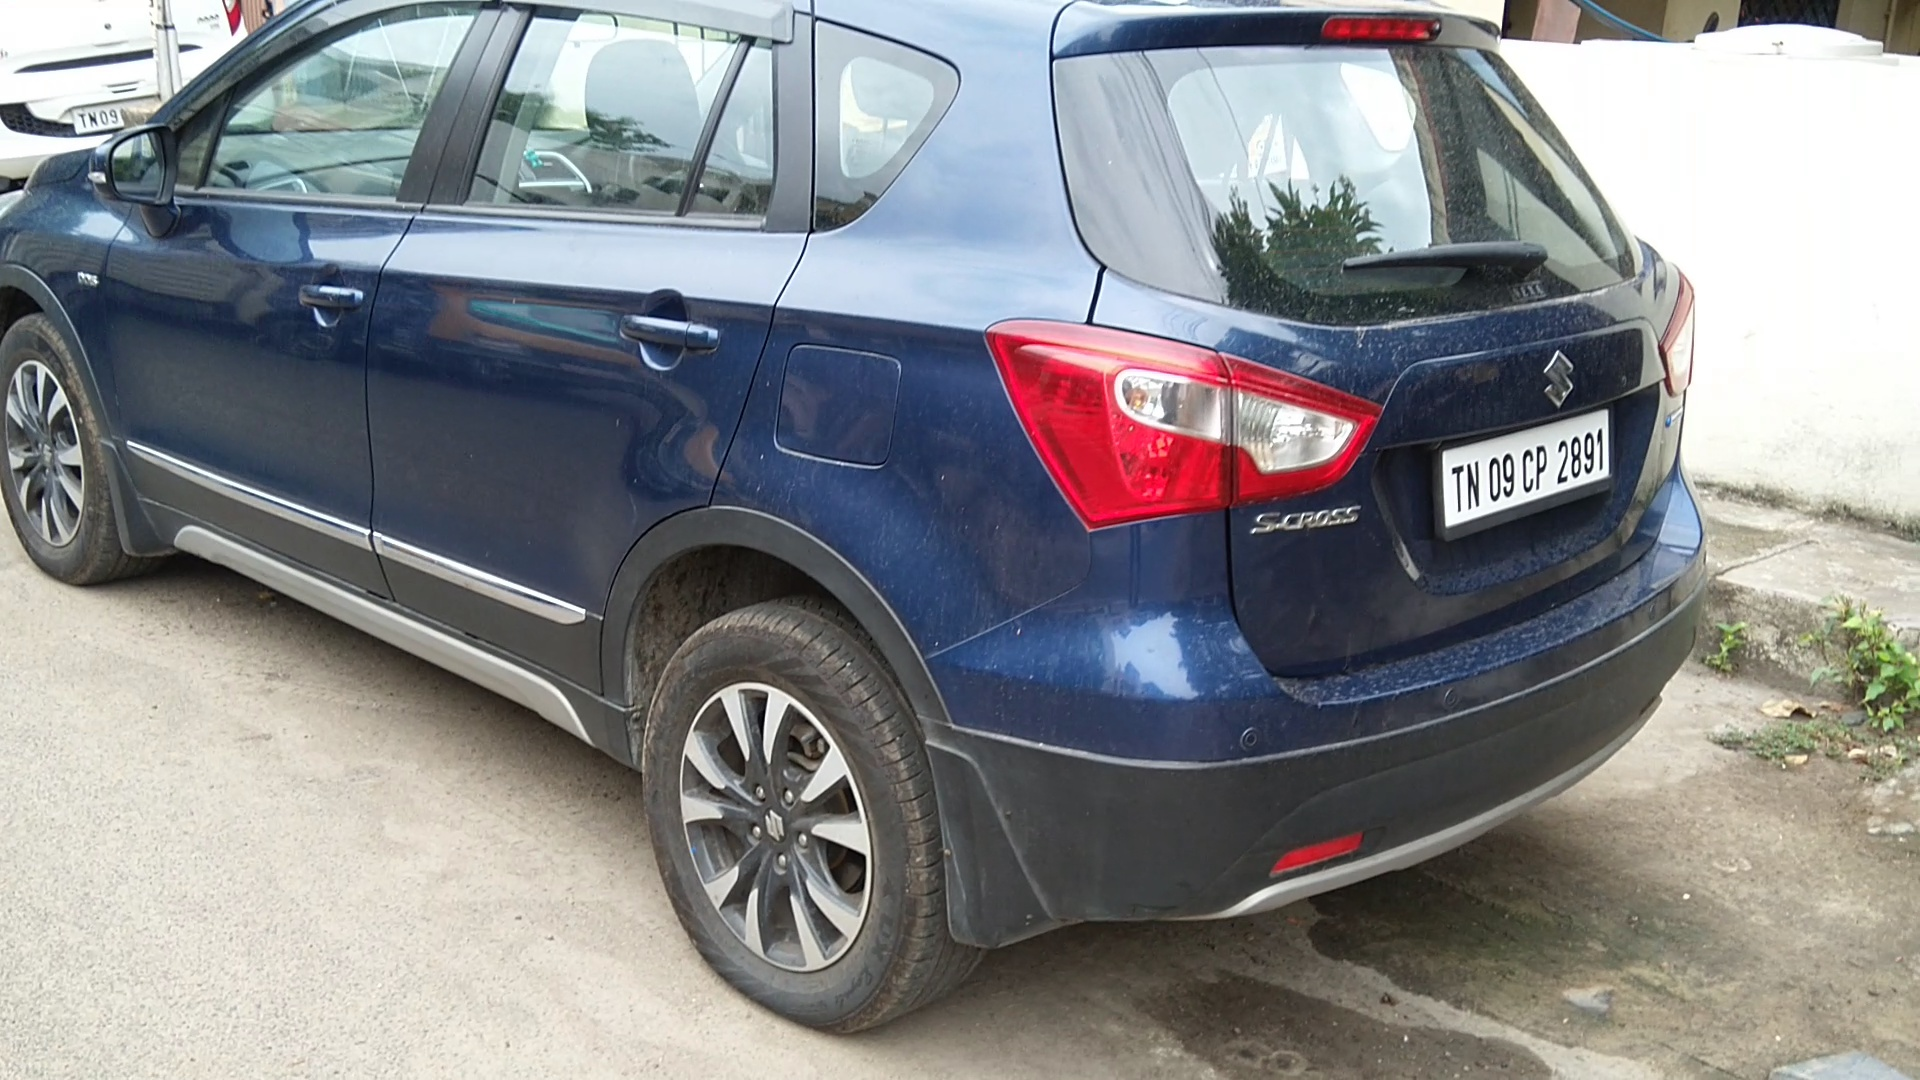alloy_wheel: (670, 589, 935, 1031), (5, 309, 117, 584)
rear_camera: (1420, 11, 1458, 46)
